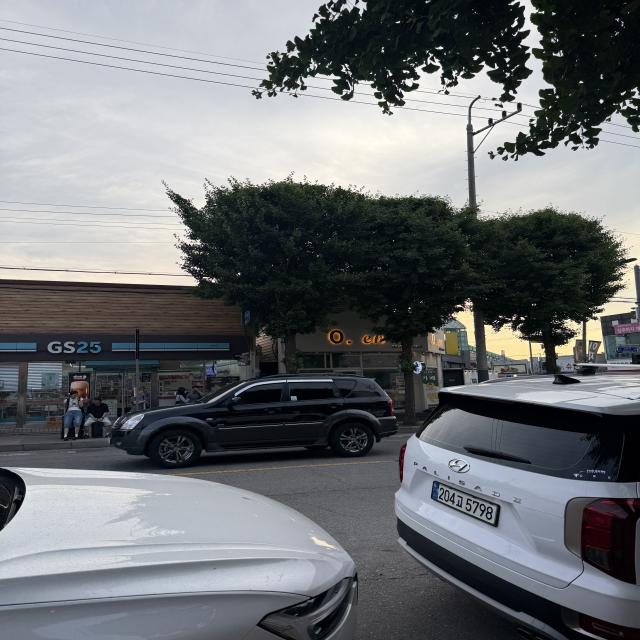car: (0, 447, 378, 640), (397, 351, 640, 640), (105, 374, 422, 468)
